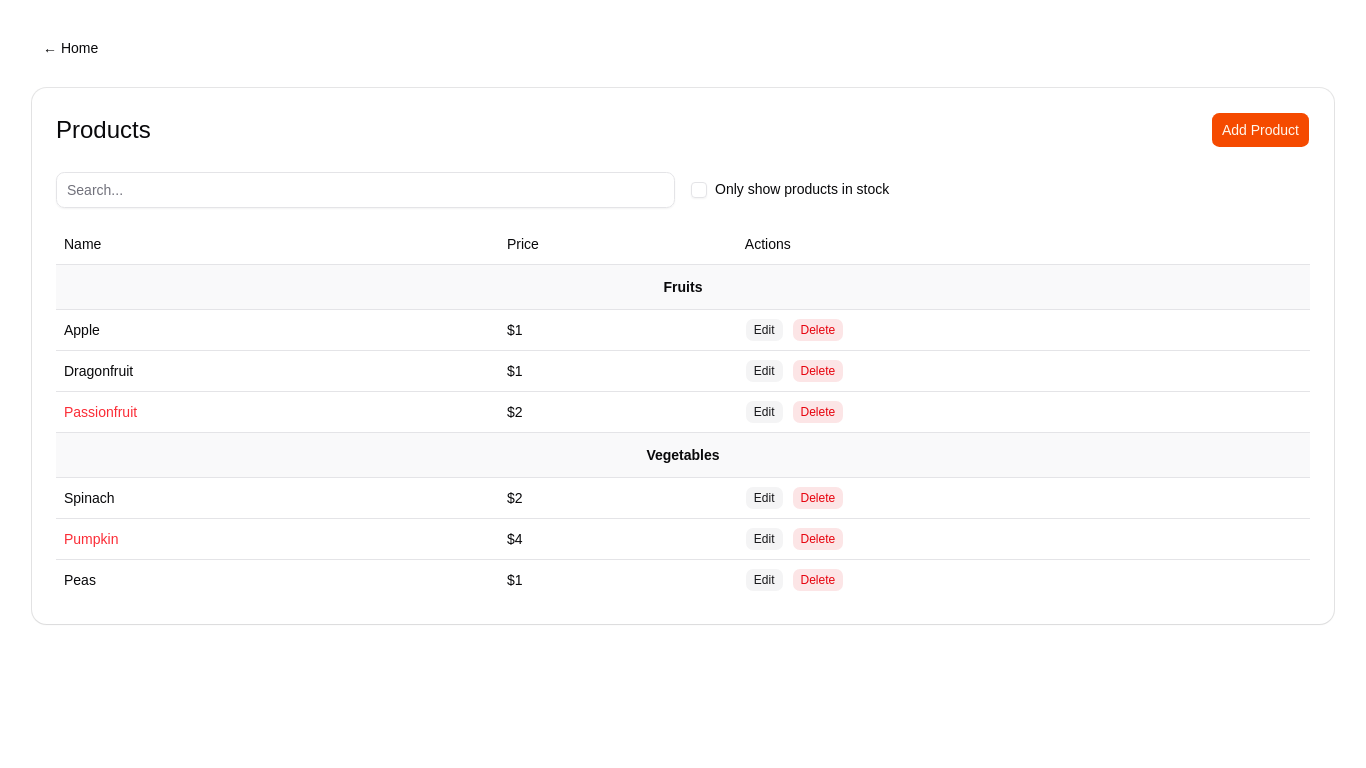
Test case: FilterableProductTable › shows form when Add Product button is clicked
Expected: the text "Apple" is shown, [64,322,100,338]
Click the button "Add Product" at (1260, 130), box [1211,112,1310,148]
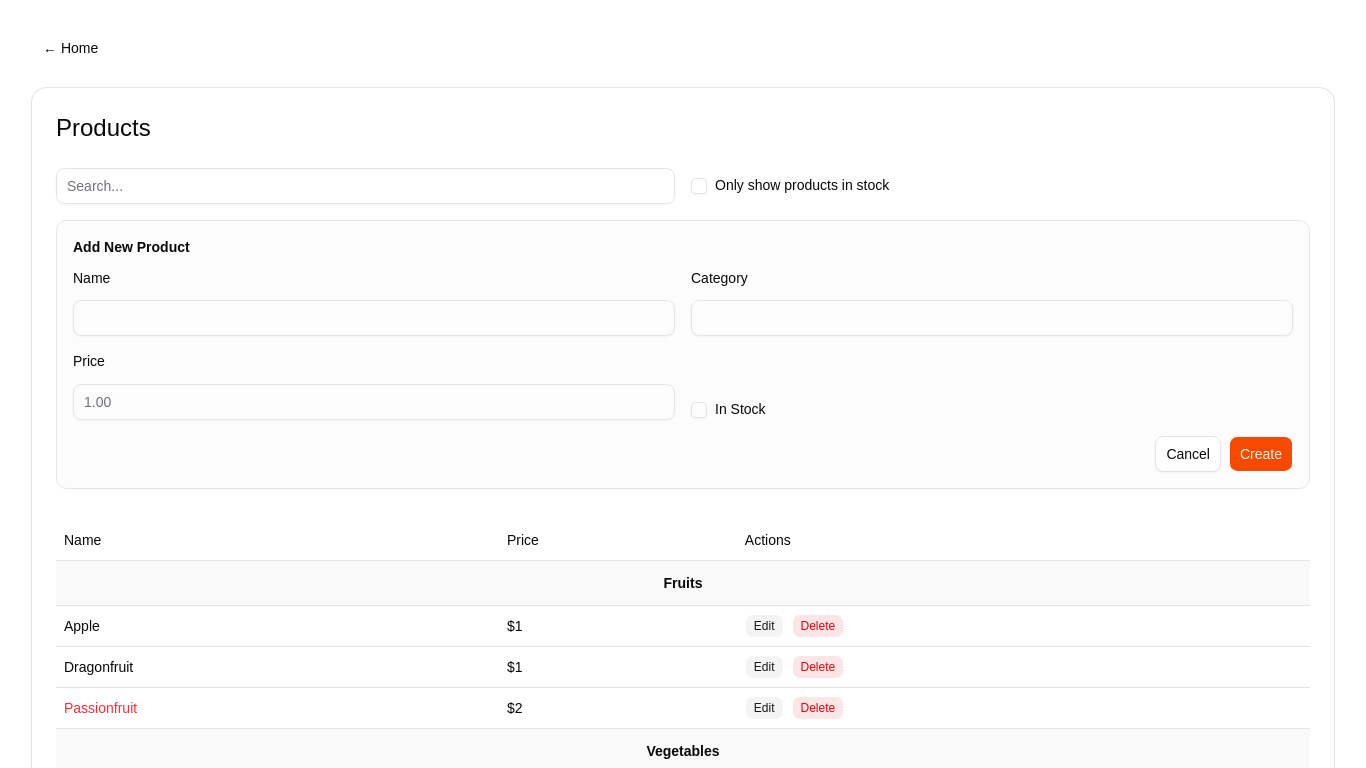
Expected: the heading "Add New Product" is shown, [73,239,190,255]
Expected: the button "Add Product" is gone
